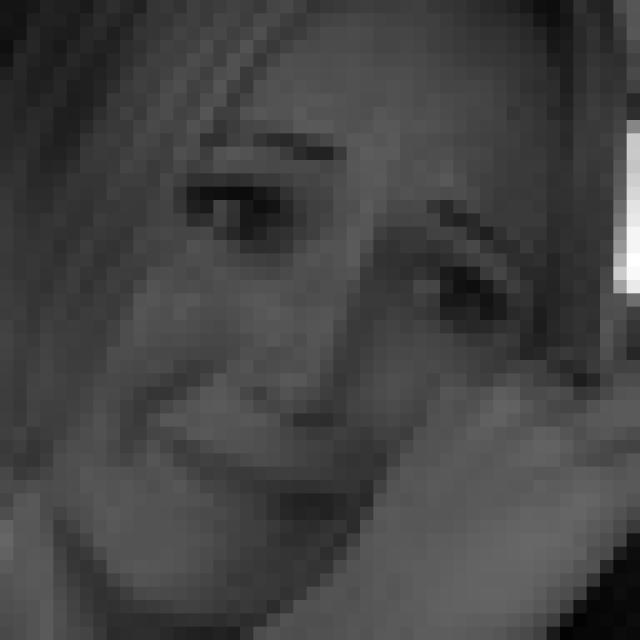sad: (111, 125, 548, 640)
